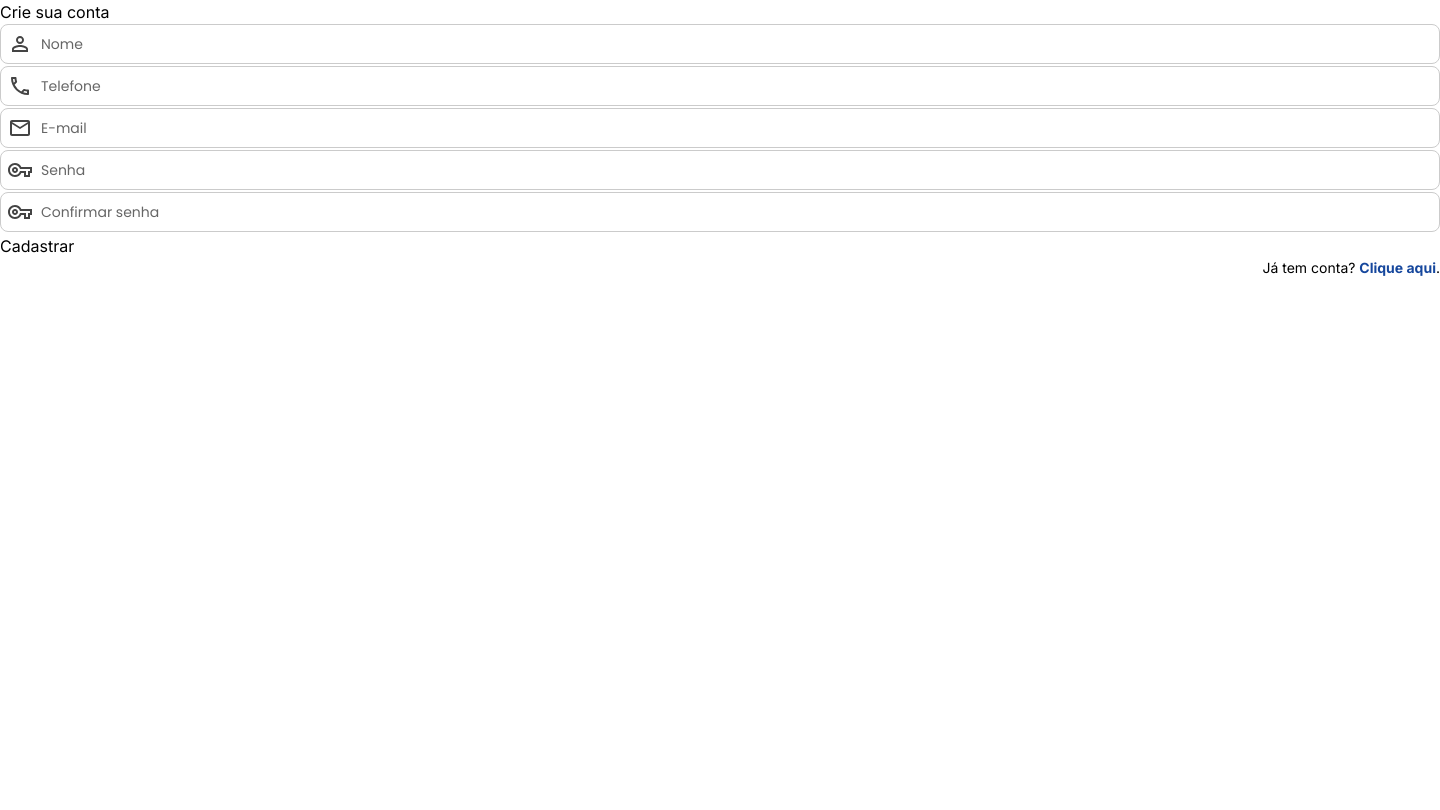
Test: Register Component › should validate password mismatch
The image size is (1440, 810).
Type "123456" into the password field with placeholder "Senha".
click(720, 170); type("123456")  # box [0,150,1439,190]
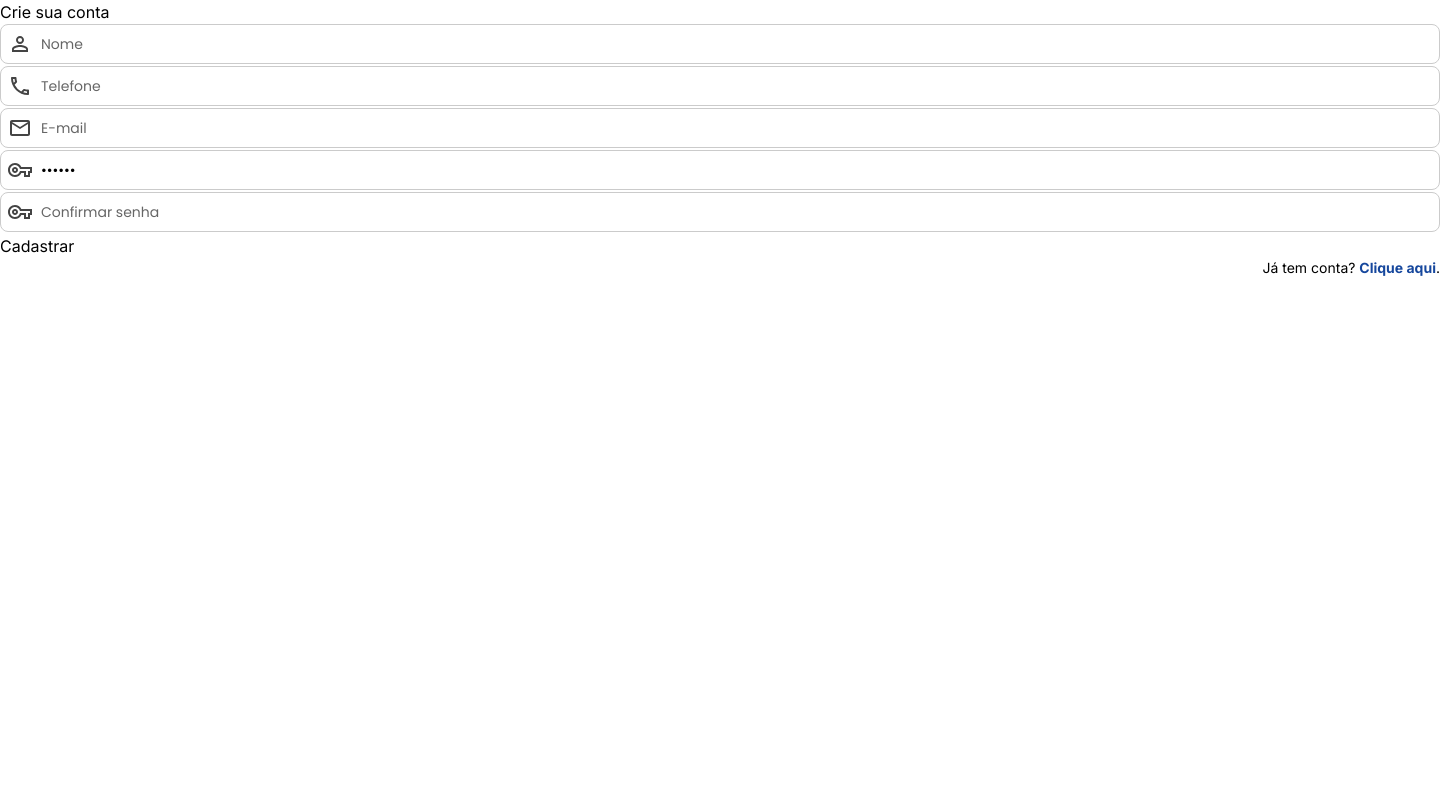
Type "654321" into the password field with placeholder "Confirmar senha".
click(720, 212); type("654321")  # box [0,192,1439,232]
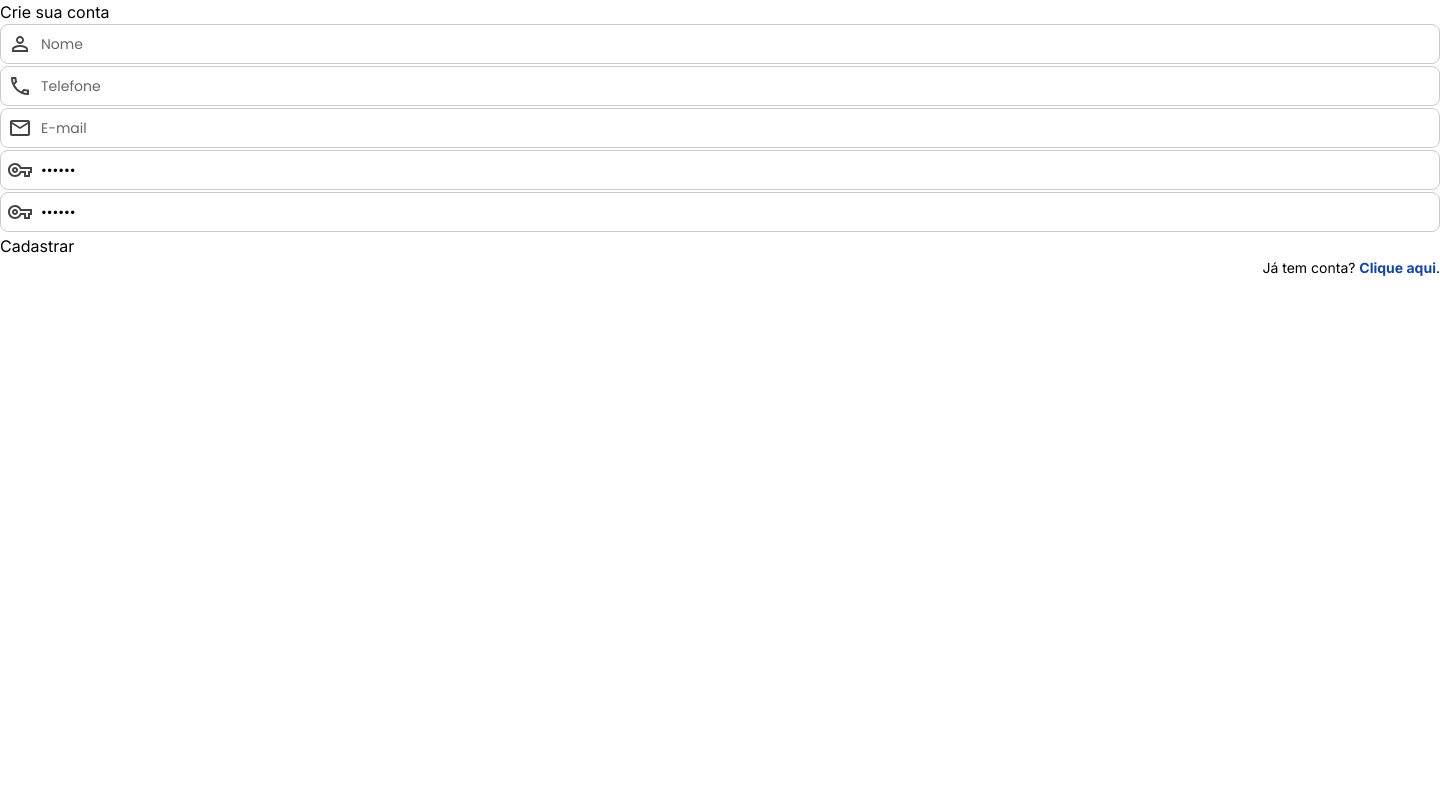
Click the button "Cadastrar".
click(37, 246)  # box [0,234,74,258]
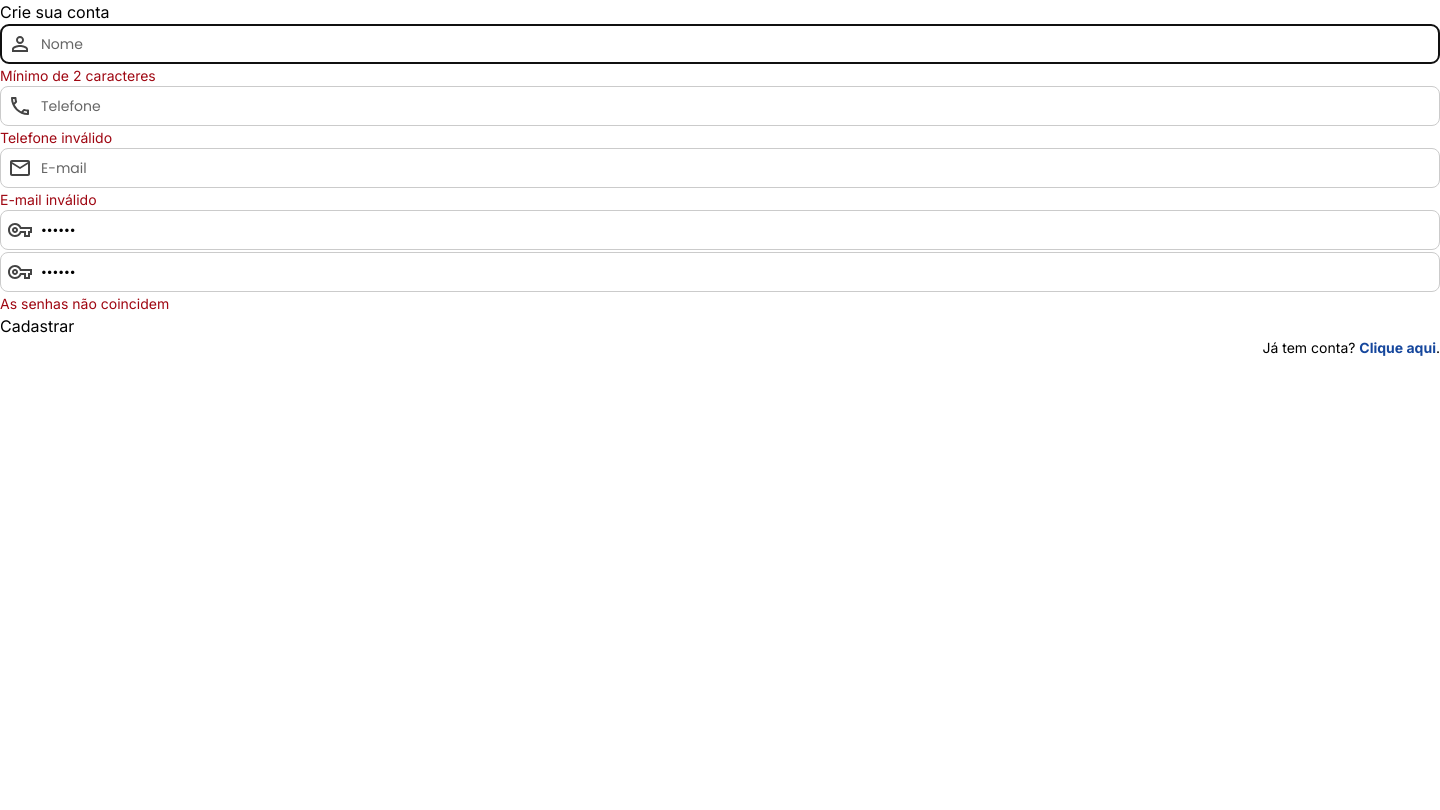
Now the text "As senhas não coincidem" is shown, box [0,295,169,312]
